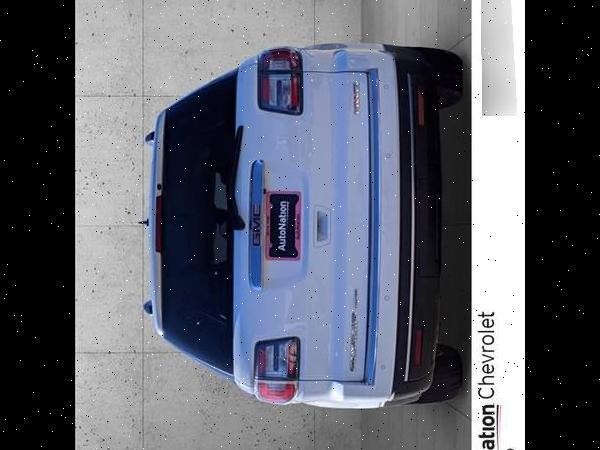Left_Taillight: (252, 338, 301, 406)
Rear_Bumper: (294, 44, 435, 407)
Rear_Windshield: (158, 68, 237, 380)
Right_Taillight: (255, 46, 303, 116)
Tailgate: (233, 55, 369, 393)
